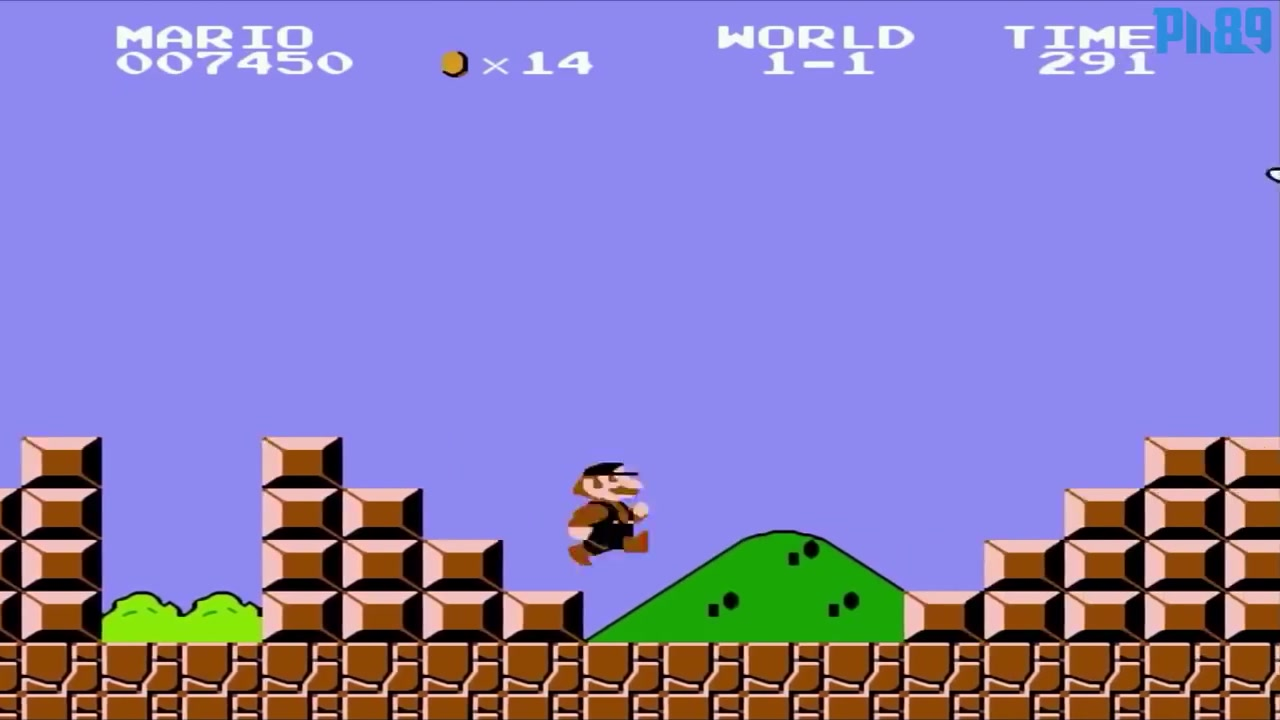mario: (557, 446, 659, 572)
